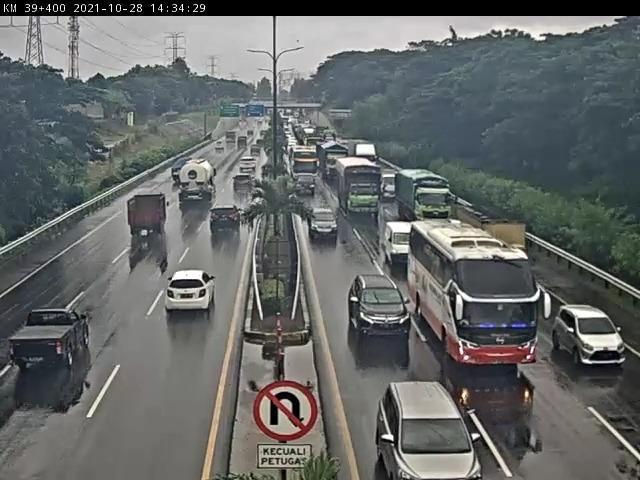Bus: (410, 212, 553, 367)
